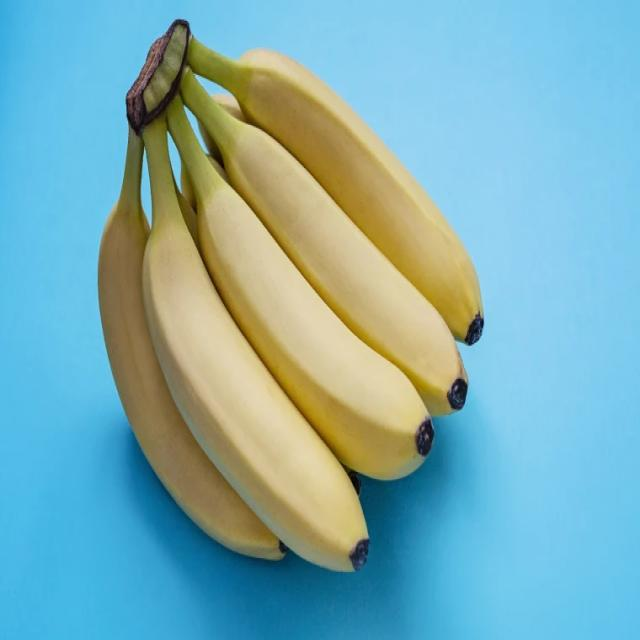banana: (143, 109, 371, 574), (183, 70, 470, 423), (169, 100, 434, 482), (190, 35, 485, 346), (98, 110, 288, 563), (168, 131, 195, 210)
